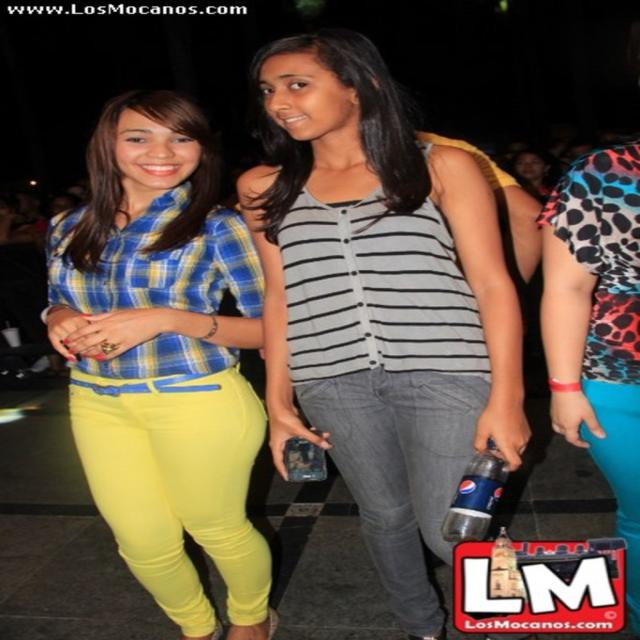no_helmet: (263, 31, 364, 121), (153, 70, 251, 153)
